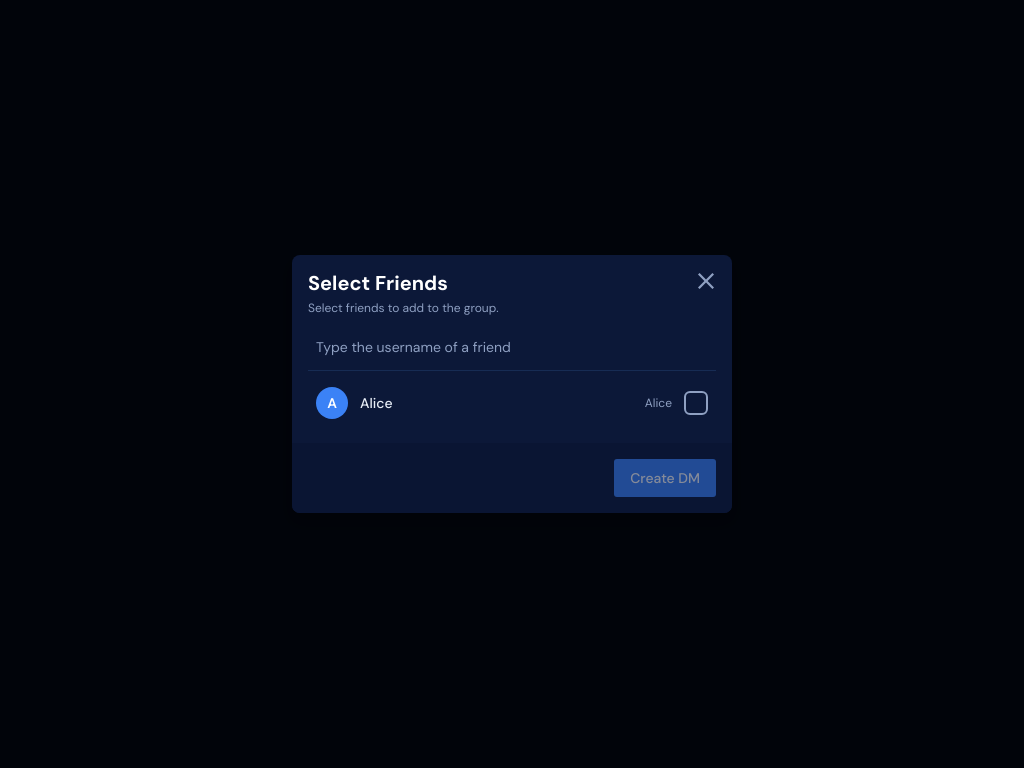
Test case: CreateGroupDMModal › enables Create DM button when a friend is selected
Click the 1st text "Alice" at x=376, y=403, box [360,394,393,412]
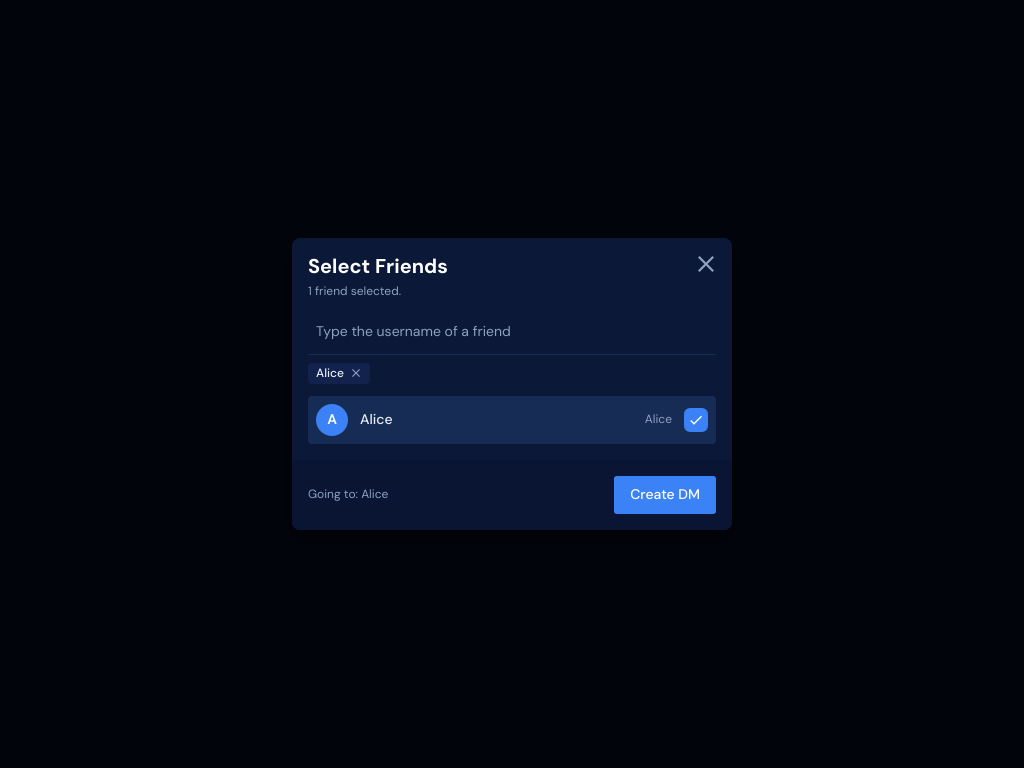
Expected: the button "Create DM" is enabled, [614,476,716,514]
